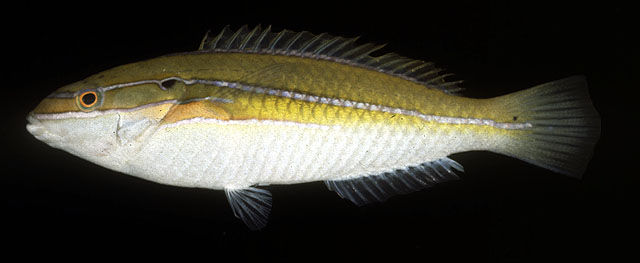fish: (25, 26, 587, 226)
